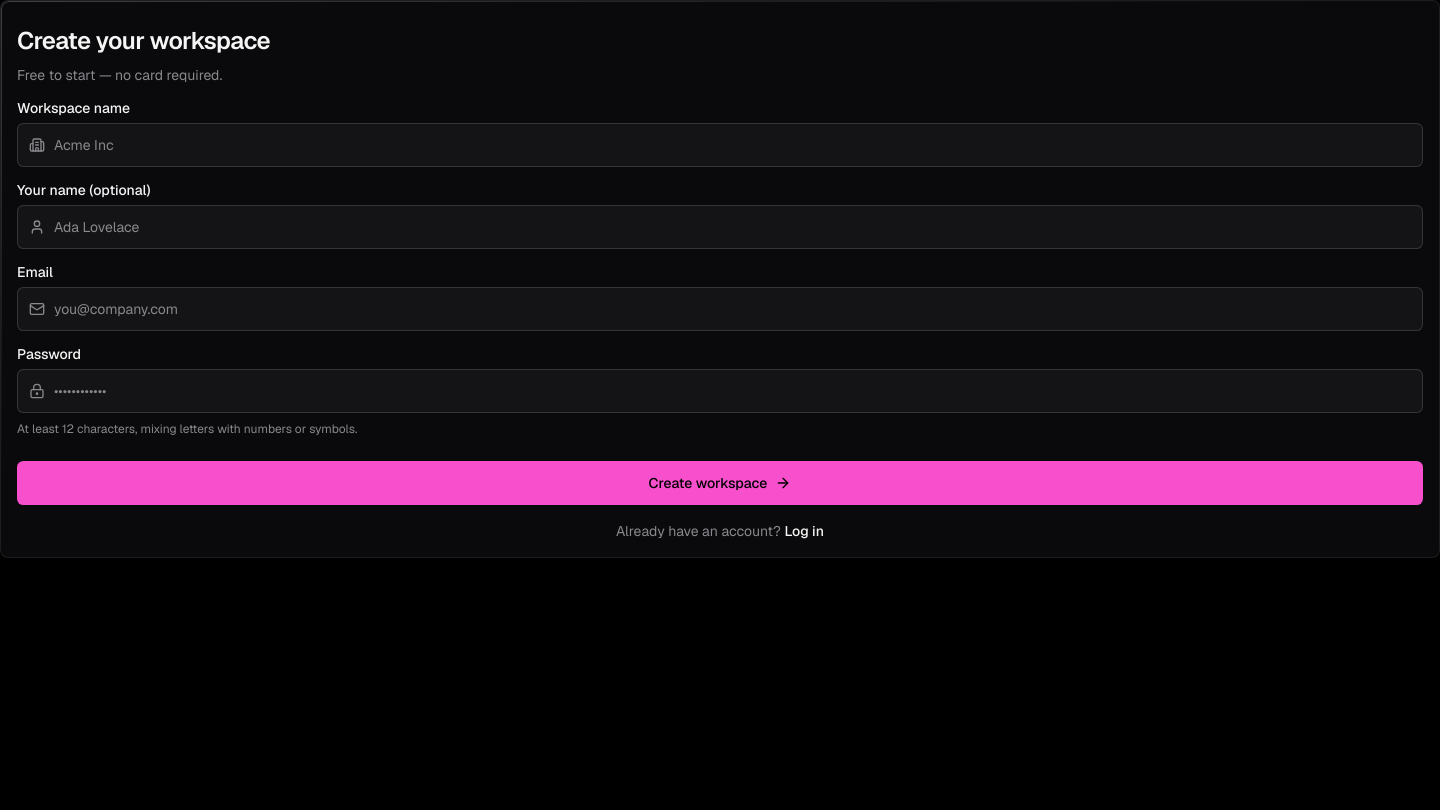
Test case: SignupPage › requires a workspace name and a valid email
The width and height of the screenshot is (1440, 810).
Click the button "Create workspace" at (720, 483), box [17,461,1423,505]
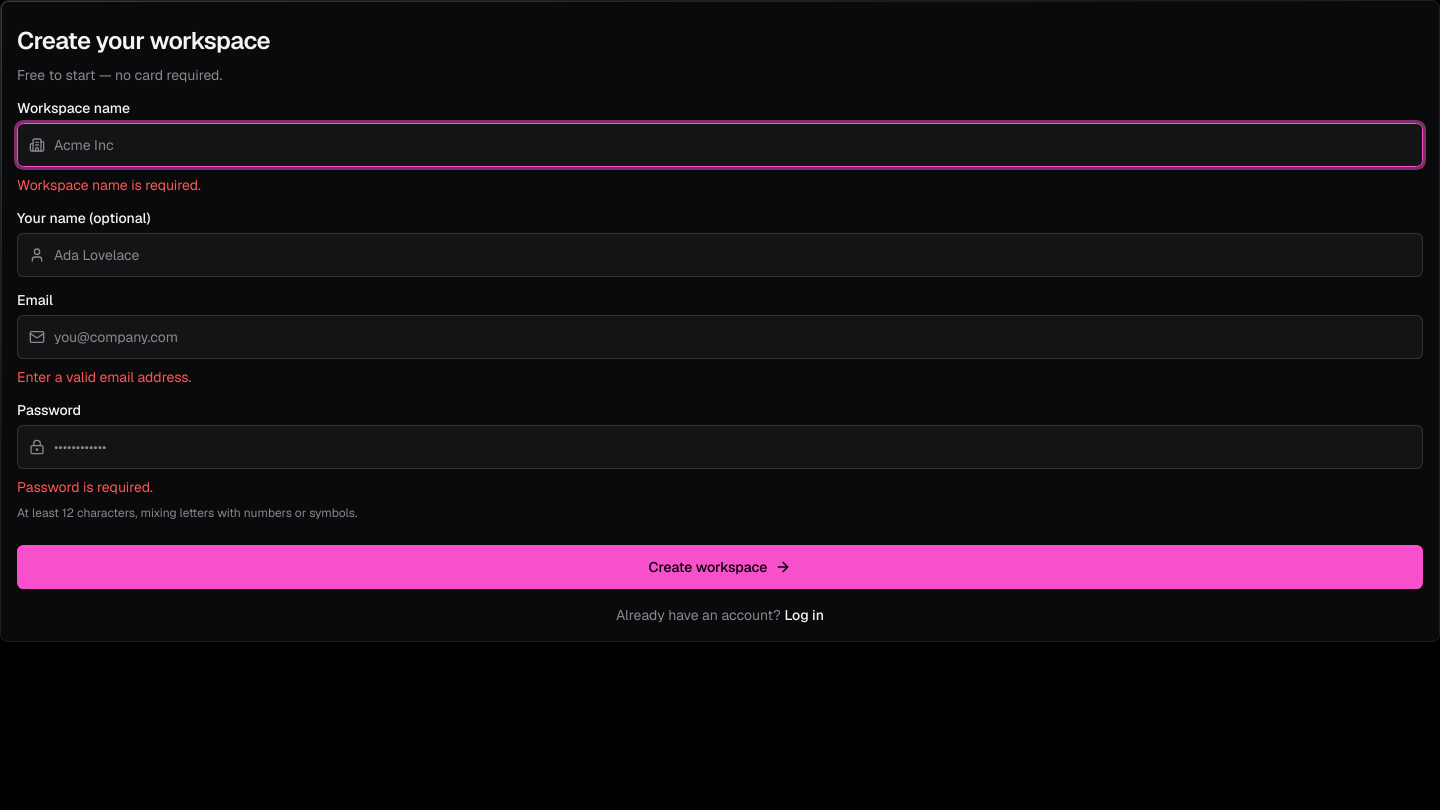
Now the text "Workspace name is required." is shown, box [17,176,201,194]
Now the text "Enter a valid email address." is shown, box [17,368,191,386]
